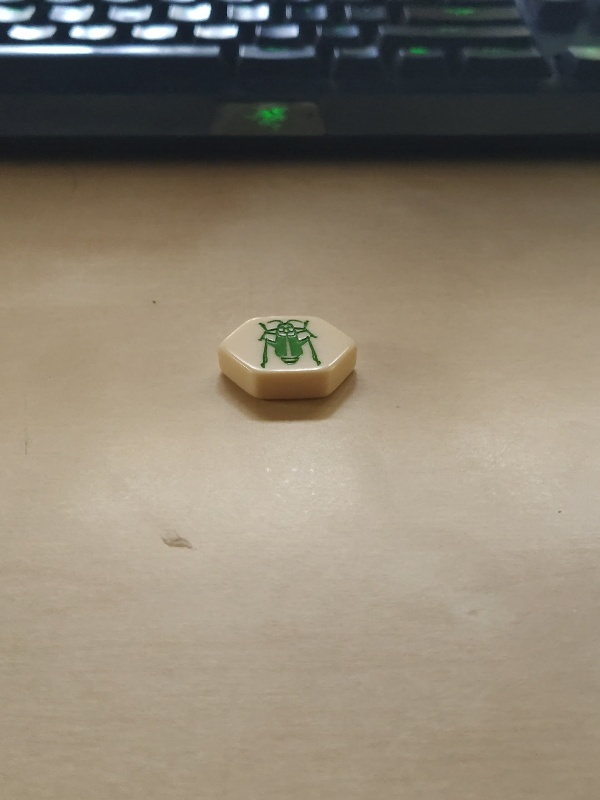white_grasshopper: (216, 317, 363, 400)
